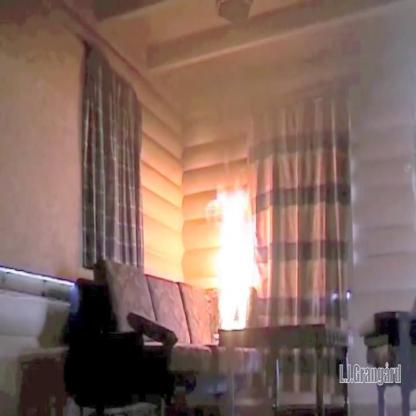fire: (204, 183, 267, 345)
